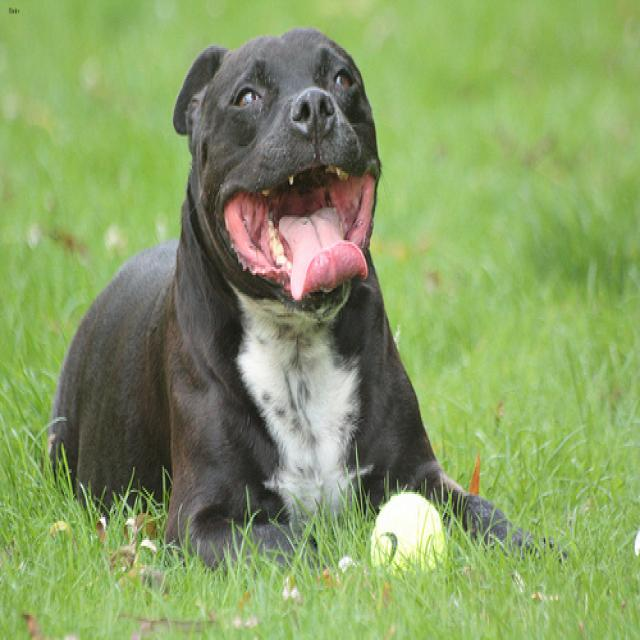dog-staffordshire_bull_terrier: (41, 19, 573, 578)
